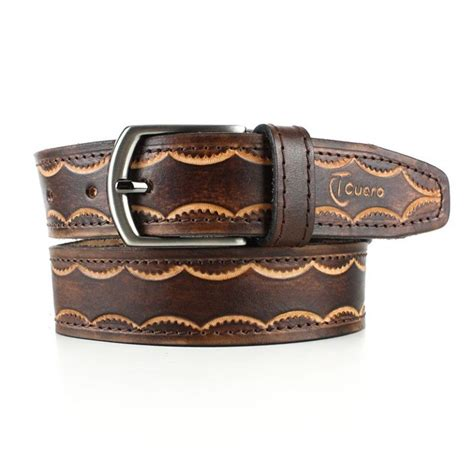cuero: (31, 122, 450, 348)
